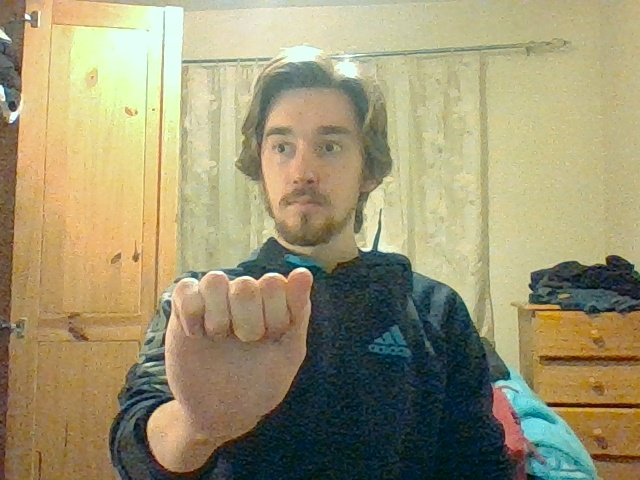your: (163, 266, 312, 427)
